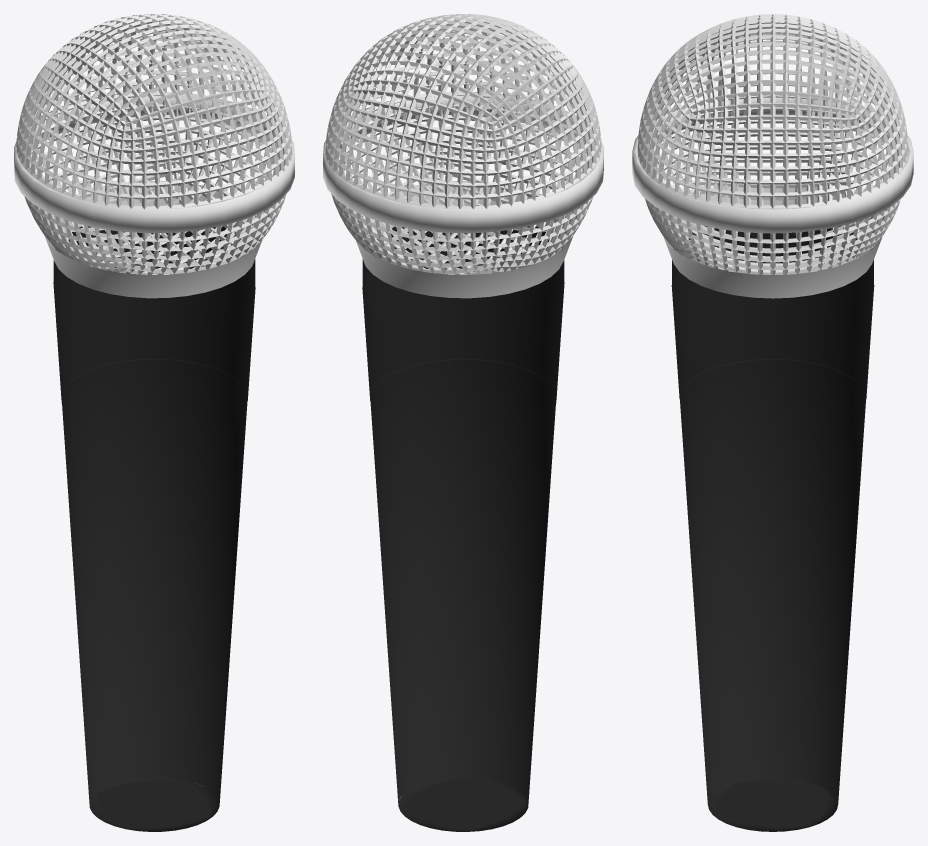
The model's file is Microphone.fbx.
The picture shows the model from 3 angles, left to right: view 1: azimuth 30°, elevation 25°; view 2: azimuth 150°, elevation 25°; view 3: azimuth 270°, elevation 25°; orthographic projection.
Parts seen in each view (by area): view 1: Circle.001, Cube, Circle; view 2: Circle.001, Cube, Circle; view 3: Circle.001, Cube, Circle.
Boxes of the visible parts, box(x1,y1,x2,y2) form: Circle.001: box(44, 181, 262, 831); Cube: box(16, 14, 292, 274); Circle: box(14, 92, 294, 233); Circle.001: box(355, 181, 573, 831); Cube: box(325, 14, 601, 274); Circle: box(323, 92, 603, 233); Circle.001: box(663, 186, 882, 831); Cube: box(637, 14, 908, 275); Circle: box(632, 97, 913, 233).
Size of the model in its own units: 155 by 472 by 155.
